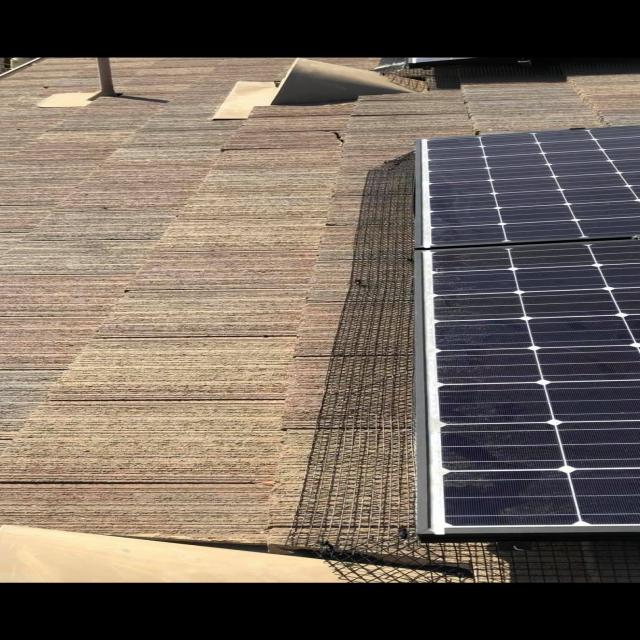clean-solar-panel: (417, 126, 639, 540)
